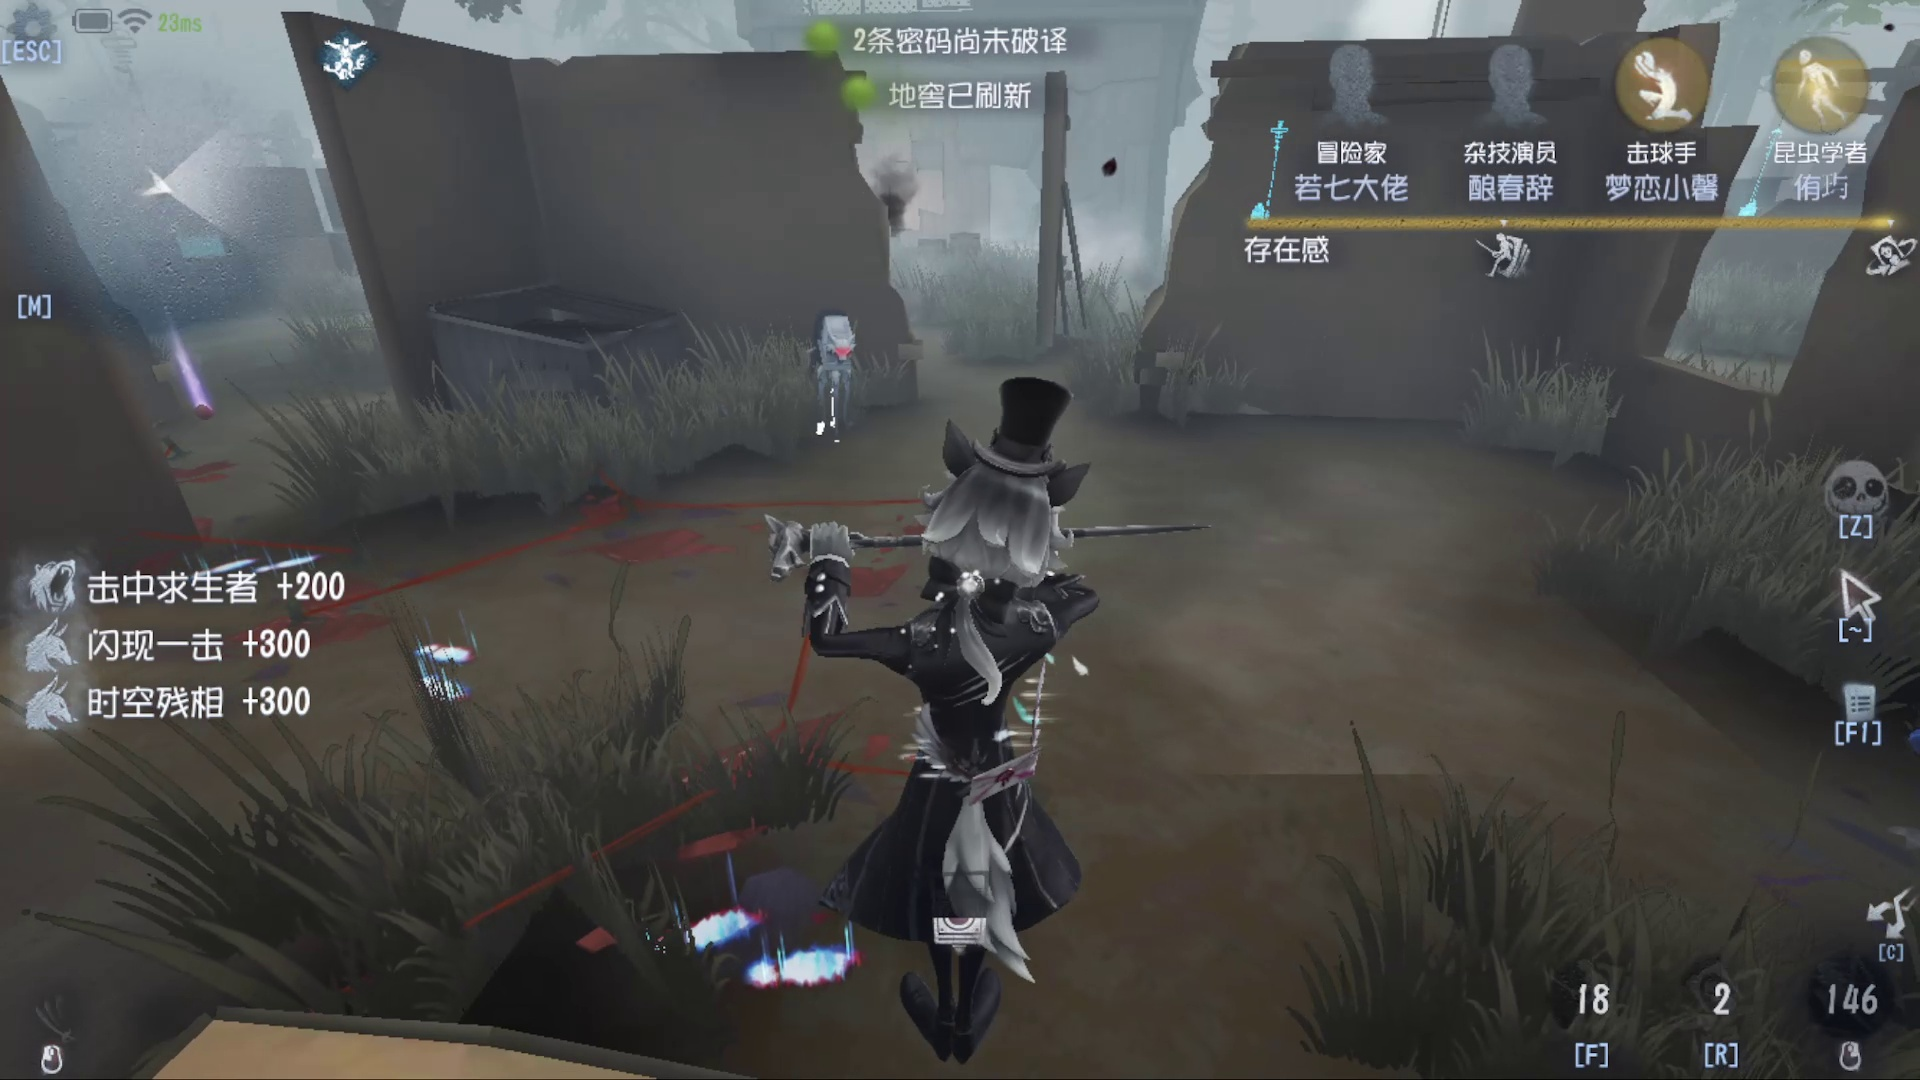密码机: (1236, 109, 1302, 261)
